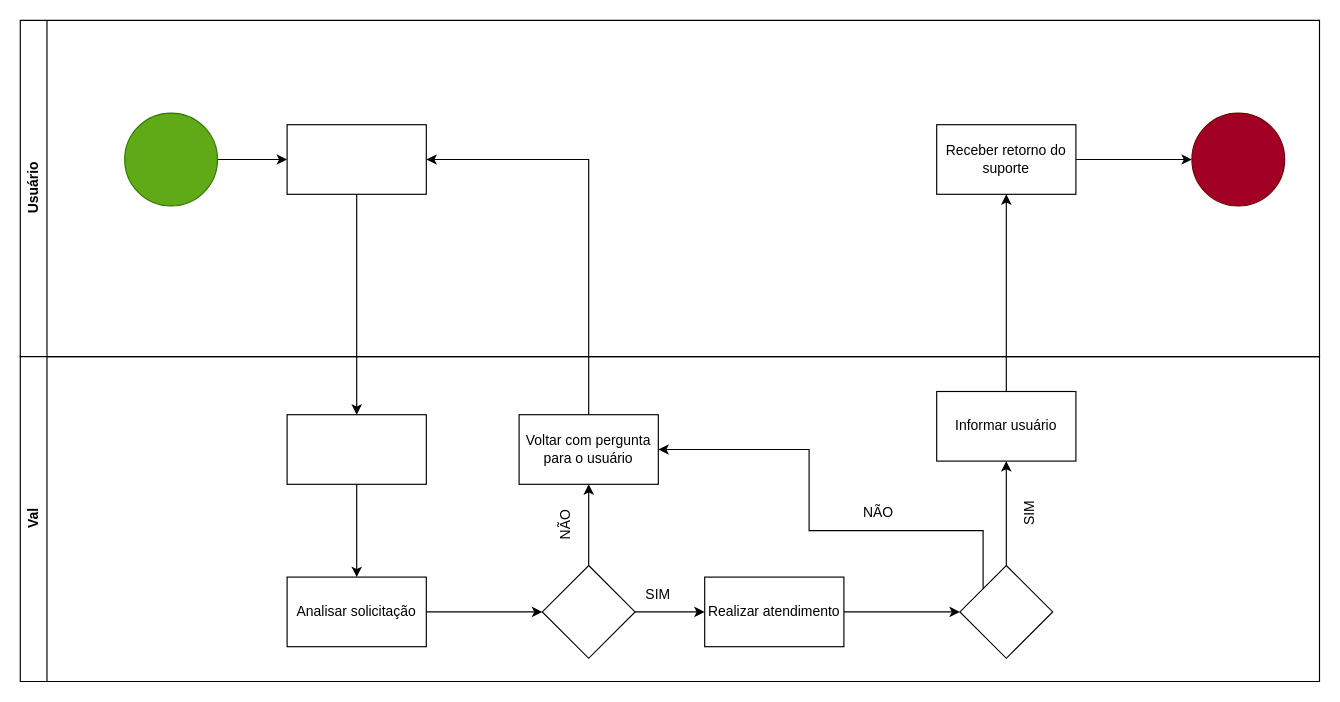
This 1340x702 diagram has some shape labels left out. The shapes that lost their labels are listed below. From the top down, each one's centre as x and y in pixels, then its label:
point (356, 159): Mandar e-mail para suporte
point (356, 449): Receber solicitação do usuário
point (588, 611): Falta informações?
point (1006, 611): Solicitação resolvida?
